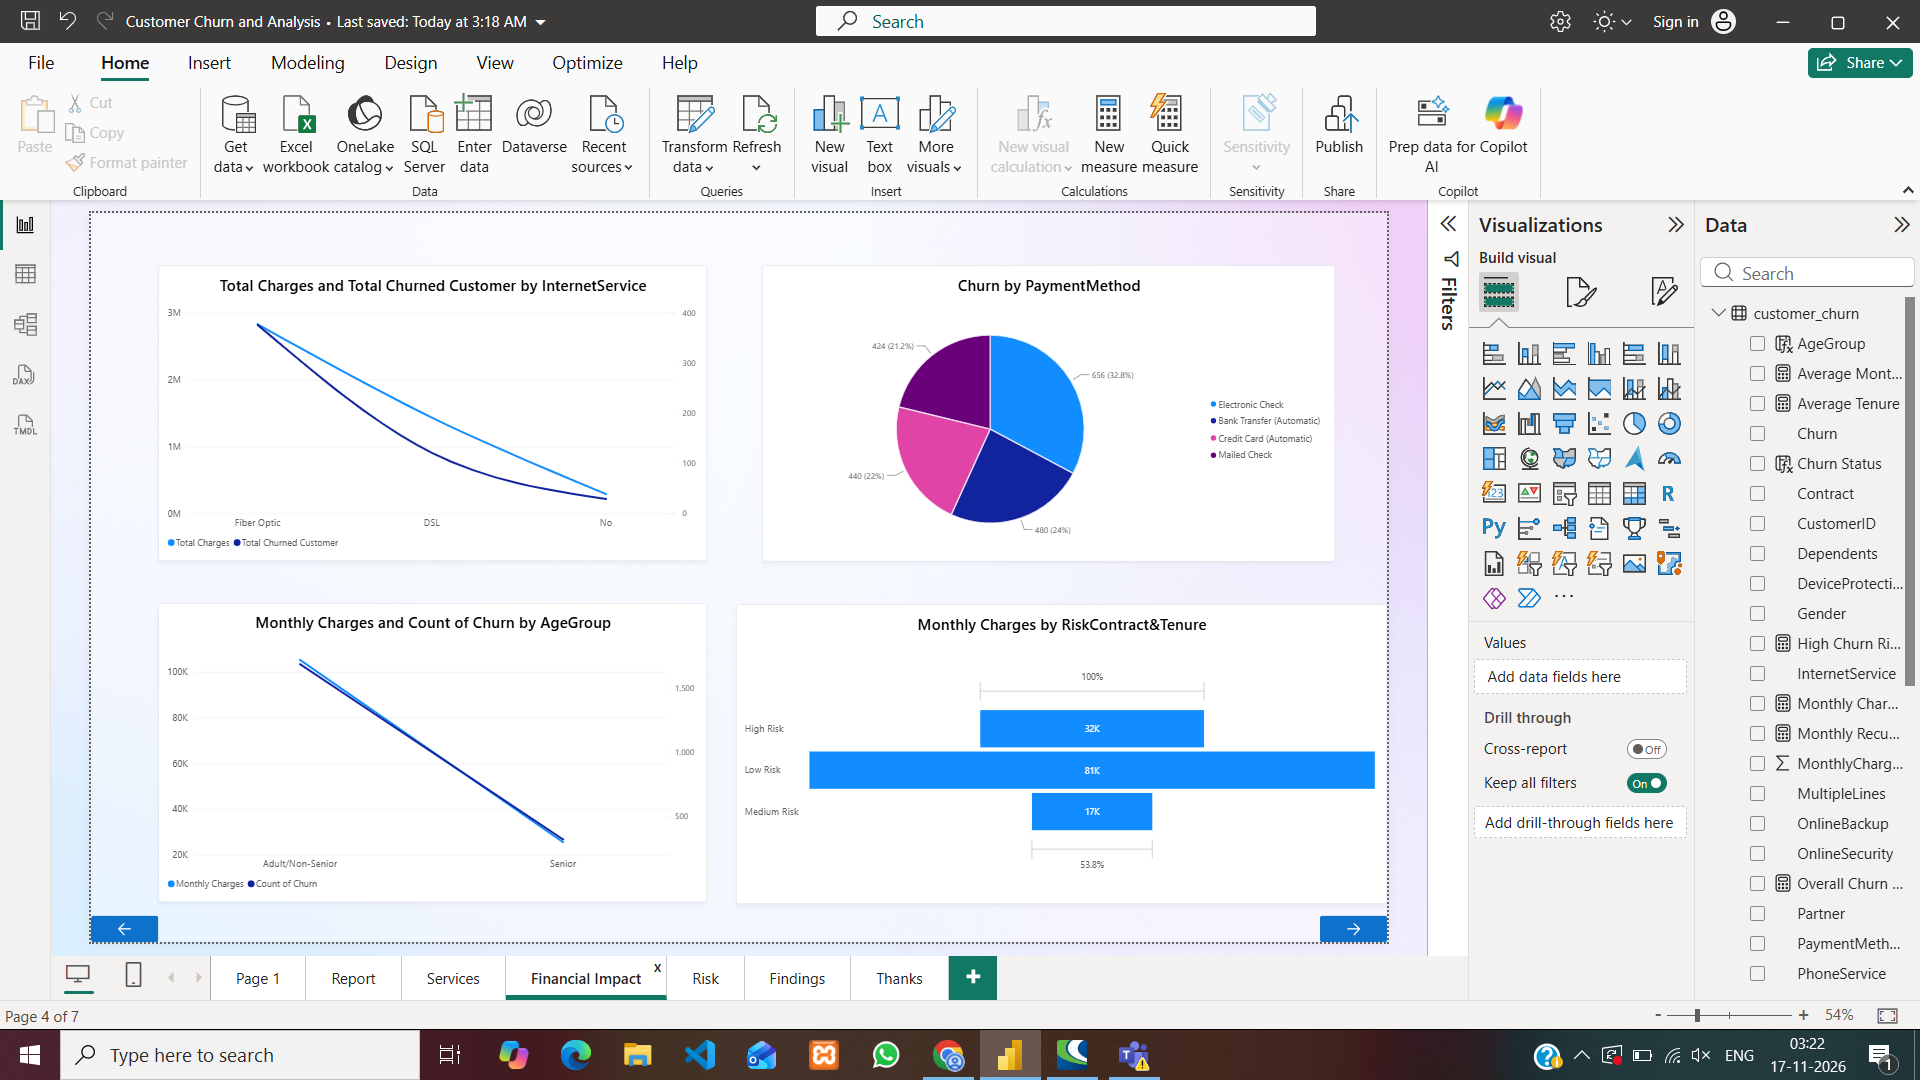

This screenshot's page, from the dashboard's own definition file:
{"tool":"powerbi","page":{"name":"Financial Impact","canvas":[1920,1080],"ordinal":3},"visuals":[{"type":"lineChart","fields":{"Category":["customer_churn.AgeGroup"],"Y":["customer_churn.Monthly Charges"],"Y2":["CountNonNull(customer_churn.Churn)"]},"box":[100,578.2,812.5,443.4],"z":0},{"type":"lineChart","title":"Total Charges and Total Churned Customer by InternetService","fields":{"Category":["customer_churn.InternetService"],"Y":["customer_churn.Total Charges"],"Y2":["customer_churn.Total Churned"]},"box":[100,78.2,812.5,437.9],"z":1000},{"type":"funnel","fields":{"Category":["customer_churn.RiskContract&Tenure","customer_churn.PaymentMethod"],"Y":["customer_churn.Monthly Charges"]},"box":[956.2,579.2,964.6,443.8],"z":2000},{"type":"pieChart","title":"Churn by PaymentMethod","fields":{"Category":["customer_churn.PaymentMethod"],"Y":["CountNonNull(customer_churn.Churn)"]},"box":[993.9,77.6,849,438.8],"z":3000},{"type":"actionButton","box":[0,1040,100,40],"z":4000},{"type":"actionButton","box":[1820,1040,100,40],"z":5000}]}

Visuals, with their boxes on the page's 1920x1080 design canvas (x1, y1, x2, y2). These are canvas units, not pixel positions in the 1920x1080 screenshot, which may show the page scaled, cropped or inside an application window:
lineChart - customer_churn.AgeGroup x customer_churn.Monthly Charges: (left=100, top=578, right=912, bottom=1022)
"Total Charges and Total Churned Customer by InternetService" lineChart: (left=100, top=78, right=912, bottom=516)
funnel - customer_churn.RiskContract&Tenure x customer_churn.PaymentMethod: (left=956, top=579, right=1921, bottom=1023)
"Churn by PaymentMethod" pieChart: (left=994, top=78, right=1843, bottom=516)
actionButton: (left=0, top=1040, right=100, bottom=1080)
actionButton: (left=1820, top=1040, right=1920, bottom=1080)
